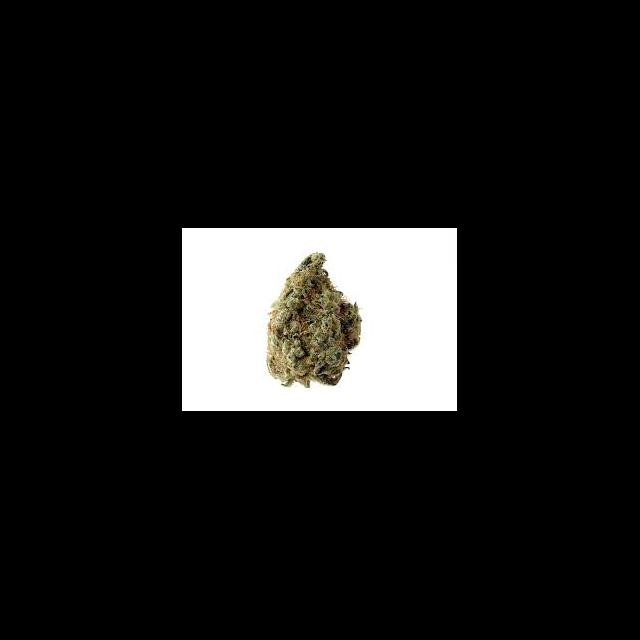food_waste: (253, 248, 385, 394)
